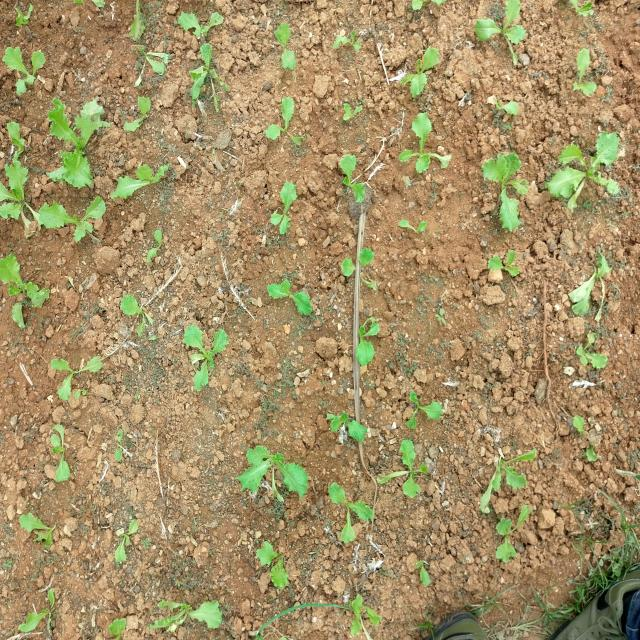Lettuce: (237, 402, 310, 507), (388, 109, 451, 187), (128, 583, 230, 631), (54, 102, 101, 200), (481, 147, 524, 254), (380, 433, 440, 498), (322, 480, 378, 547), (487, 471, 538, 542), (260, 94, 313, 157), (176, 320, 225, 387), (248, 538, 296, 601), (117, 76, 158, 142), (260, 180, 299, 247), (260, 287, 324, 320)
